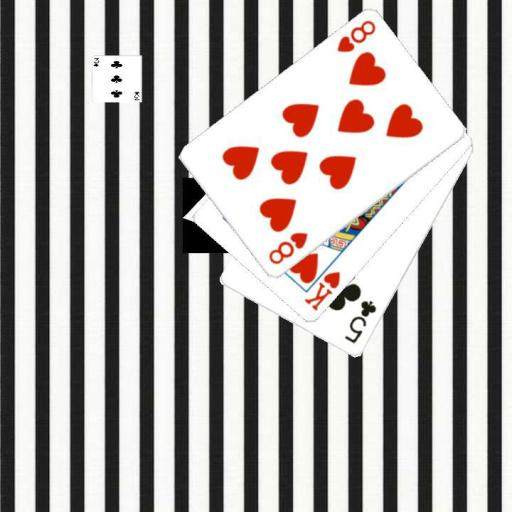5C: (342, 297, 379, 346)
8H: (265, 229, 310, 267), (334, 17, 378, 55)
KH: (301, 268, 342, 313)
